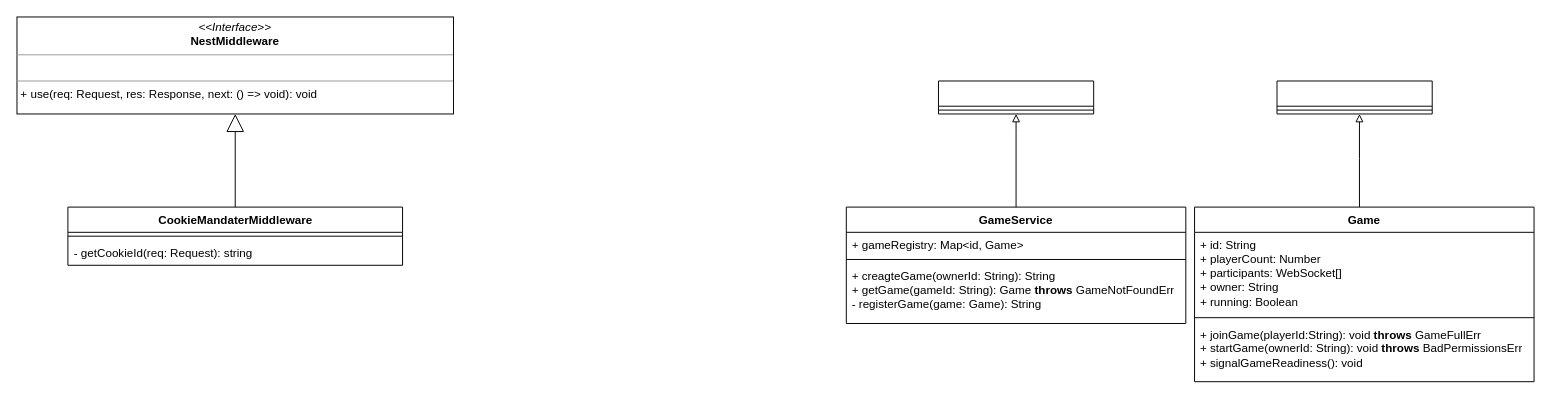
Image size: 1551x402. Some labels were removed from this diagram. Here are the shapes that lost their labels. From the top down, the centre of each, then its label:
the point at 1016,97: Service
the point at 1354,97: Resource
